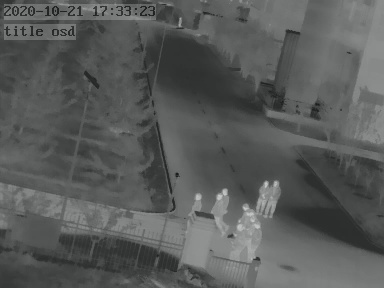person: (210, 187, 228, 232), (246, 220, 264, 264), (230, 221, 246, 259), (256, 179, 272, 215), (268, 178, 282, 217), (239, 203, 255, 231), (190, 191, 202, 217), (176, 15, 183, 30)
